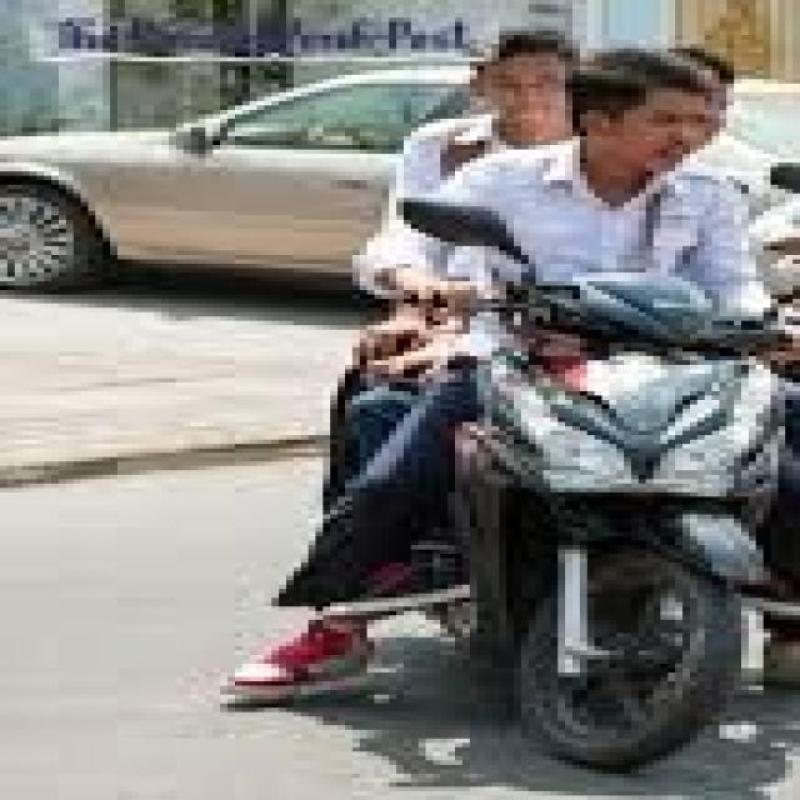nohelmet: (572, 49, 743, 163), (474, 24, 576, 142)
